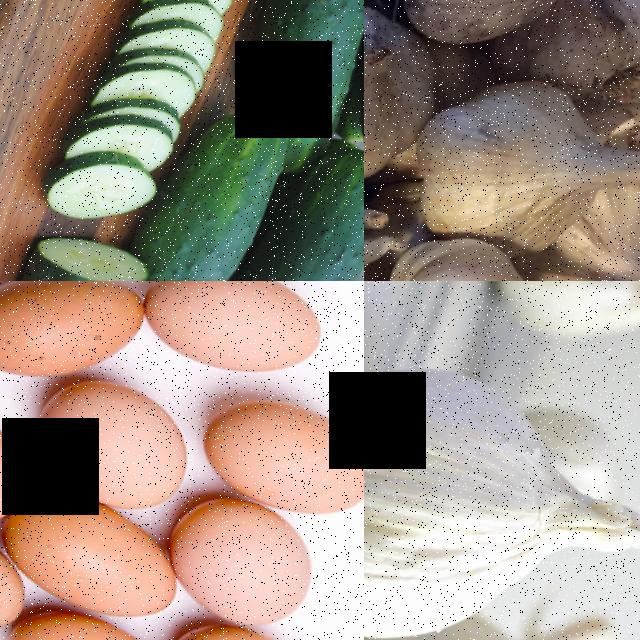cucumber: (138, 95, 313, 281), (217, 0, 364, 153), (221, 139, 364, 281), (0, 228, 171, 281)
egg_: (0, 485, 211, 640), (21, 366, 216, 530), (158, 488, 348, 640), (189, 382, 364, 541), (128, 281, 352, 402), (0, 281, 162, 406), (0, 371, 64, 541), (6, 596, 207, 640), (0, 501, 55, 640)
garlic: (364, 333, 636, 640), (394, 57, 640, 274), (371, 0, 639, 82), (364, 1, 463, 189), (364, 222, 602, 281)
